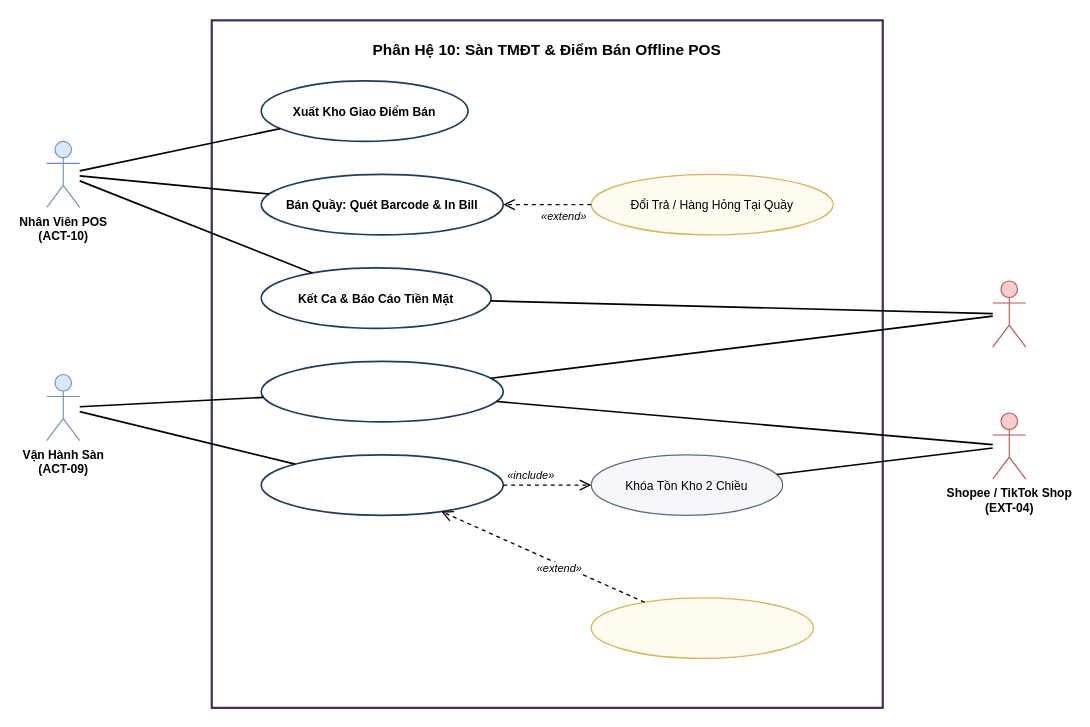
The diagram is 1090 pixels wide and 727 high, and some of its shapes have lost their labels. Each missing label, with the centre of its shape:
Hoàn Tồn Khi Sàn Báo Hủy: pixel 702 627
Quản Lý Kinh Doanh (ACT-12): pixel 1009 313
Tiếp Nhận Đơn Shopee/TikTok: pixel 382 485
Đối Soát Doanh Thu & Phí Sàn: pixel 382 391
